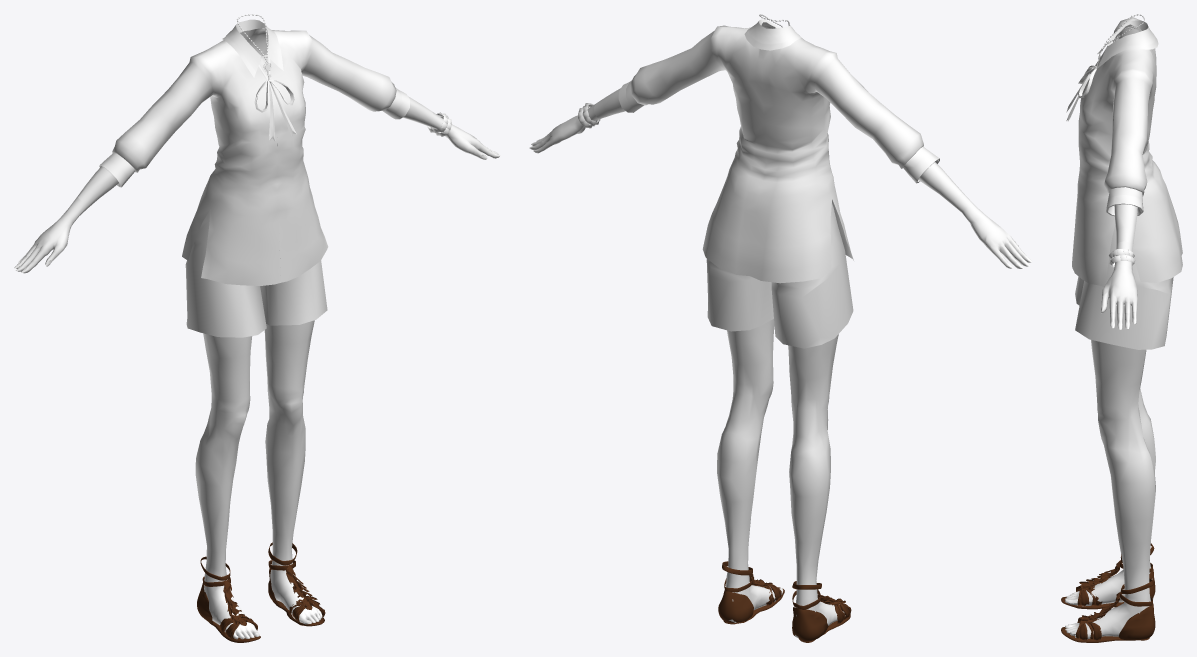
Rendered from FemaleCharacterCasual.fbx.
3 renders of one model, left to right at view 1: azimuth 30°, elevation 25°; view 2: azimuth 150°, elevation 25°; view 3: azimuth 270°, elevation 25°, orthographic. The views are drawn at different scales.
Parts seen in each view (by area): view 1: Blouse, LowerBody, NewShort, FootWear, Palms, Arms; view 2: Blouse, LowerBody, NewShort, FootWear, Palms, Arms; view 3: Blouse, LowerBody, NewShort, FootWear, Palms, Arms, Bracelet.
Boxes of the visible parts, <box> form: Blouse: <box>99,19,409,285</box>; LowerBody: <box>195,320,322,639</box>; NewShort: <box>185,209,327,337</box>; FootWear: <box>197,542,325,642</box>; Palms: <box>14,112,500,273</box>; Arms: <box>77,96,433,207</box>; Blouse: <box>618,19,939,283</box>; LowerBody: <box>717,319,845,637</box>; NewShort: <box>706,203,853,348</box>; FootWear: <box>718,561,851,642</box>; Palms: <box>529,104,1032,268</box>; Arms: <box>594,88,962,203</box>; Blouse: <box>1066,17,1182,286</box>; LowerBody: <box>1065,340,1155,639</box>; NewShort: <box>1075,224,1173,349</box>; FootWear: <box>1061,543,1155,642</box>; Palms: <box>1101,241,1137,329</box>; Arms: <box>1114,27,1140,244</box>; Bracelet: <box>1109,249,1135,267</box>.
Bounding box in the file's own units: 1378 × 297 × 1621.
